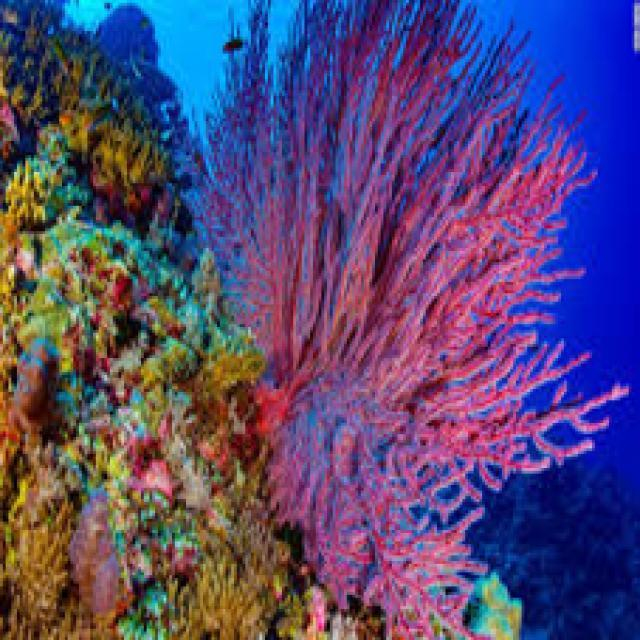Healthy: (259, 26, 531, 500), (306, 496, 470, 639), (490, 372, 610, 476)
